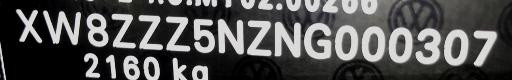letter: (42, 6, 82, 46), (303, 20, 333, 60), (272, 19, 302, 58), (440, 28, 470, 66), (14, 5, 44, 43), (387, 25, 415, 65), (413, 26, 441, 66), (216, 19, 246, 56), (471, 27, 499, 66), (110, 11, 138, 50), (137, 13, 165, 51), (246, 19, 274, 57), (360, 24, 386, 63), (333, 23, 359, 61), (84, 11, 110, 47), (165, 14, 191, 50), (192, 17, 216, 52)
